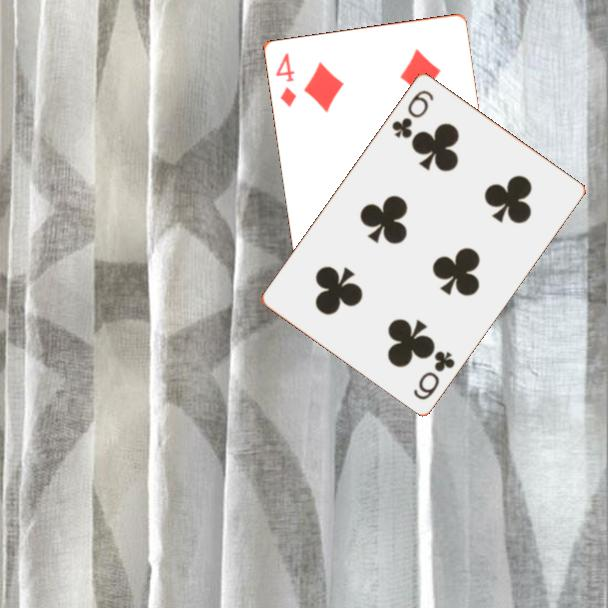c06: (388, 86, 437, 141), (410, 347, 458, 402)
d04: (272, 49, 299, 109)
